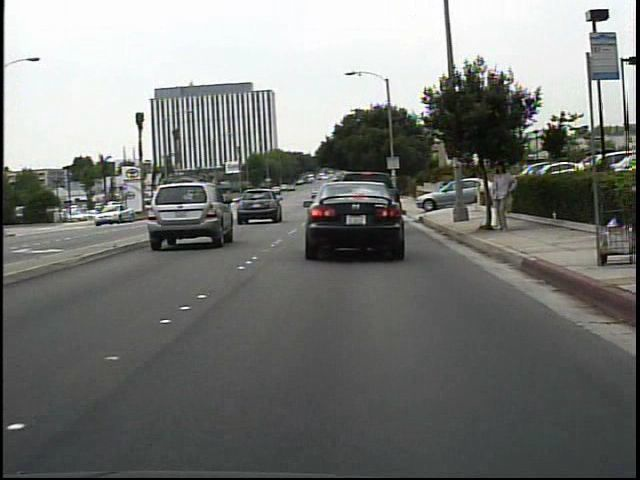person: (485, 158, 520, 236)
